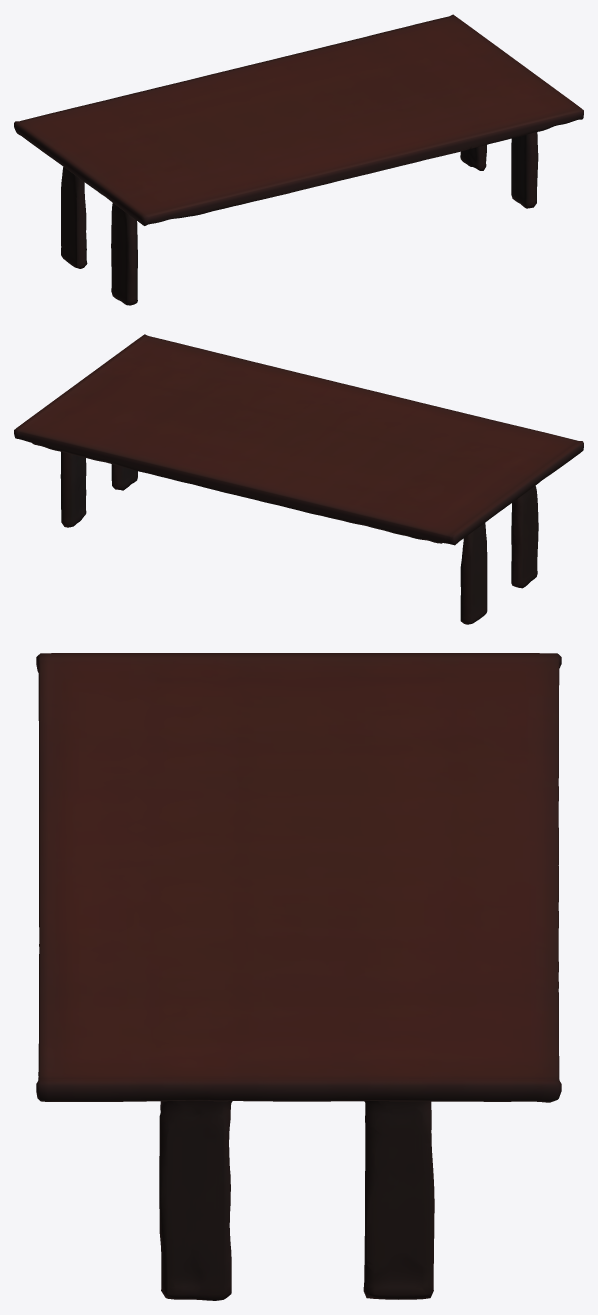
The model's file is Rectangular wooden table with two legs, dark brown.glb.
3 renders of one model, top to bottom at view 1: azimuth 30°, elevation 25°; view 2: azimuth 150°, elevation 25°; view 3: azimuth 270°, elevation 25°, orthographic. The views are drawn at different scales.
Visible parts, largest first — view 1: Rectangular wooden table with two legs, dark brown; view 2: Rectangular wooden table with two legs, dark brown; view 3: Rectangular wooden table with two legs, dark brown.
Part boxes in pixels (x1,y1,x2,y2): Rectangular wooden table with two legs, dark brown: (14,14,583,305); Rectangular wooden table with two legs, dark brown: (14,334,583,624); Rectangular wooden table with two legs, dark brown: (36,653,561,1300).
Size of the model in its own units: 1.98 by 0.5073 by 1.02.
